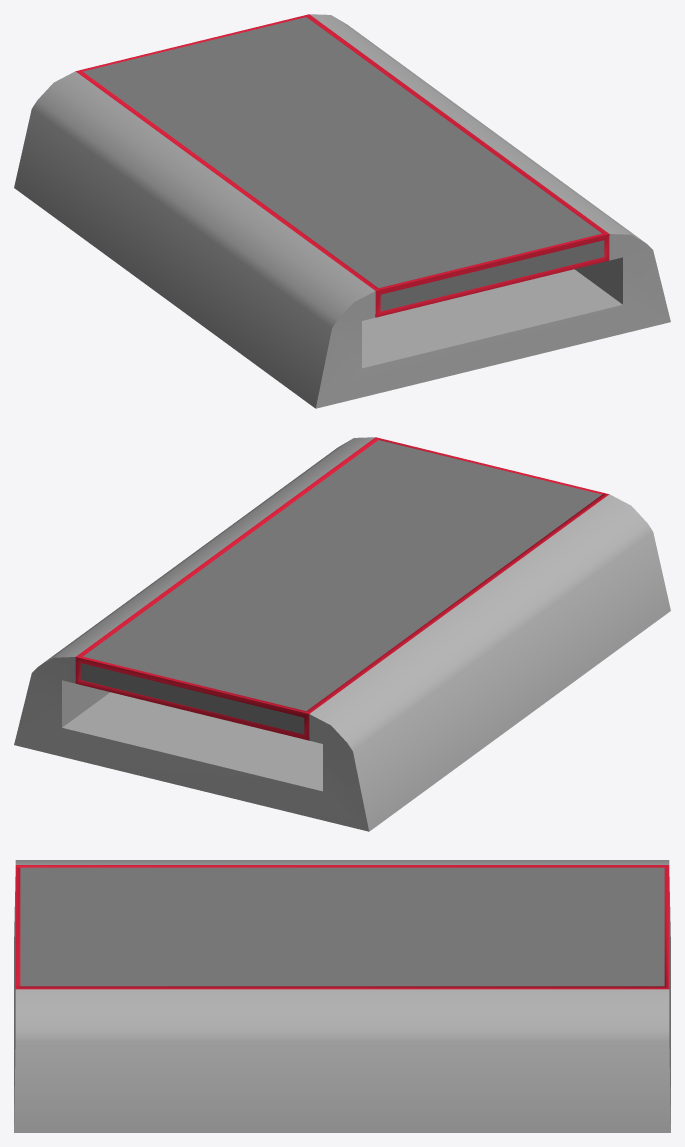
File: lowtunnel.fbx
3 renders of one model, top to bottom at view 1: azimuth 30°, elevation 25°; view 2: azimuth 150°, elevation 25°; view 3: azimuth 270°, elevation 25°, orthographic. The views are drawn at different scales.
Parts seen in each view (by area): view 1: lowtunnel, lowtunnel.glass, lowtunnel.frame; view 2: lowtunnel, lowtunnel.glass, lowtunnel.frame; view 3: lowtunnel, lowtunnel.glass, lowtunnel.frame.
Boxes of the visible parts, x1,y1,x2,y2 form: lowtunnel: (14,14,670,408); lowtunnel.glass: (83,17,604,311); lowtunnel.frame: (75,14,609,317); lowtunnel: (14,437,670,831); lowtunnel.glass: (80,440,601,734); lowtunnel.frame: (75,437,609,740); lowtunnel: (14,860,670,1132); lowtunnel.glass: (20,867,664,986); lowtunnel.frame: (15,865,669,989).
Size of the model in its own units: 38.37 by 56.45 by 10.57.
